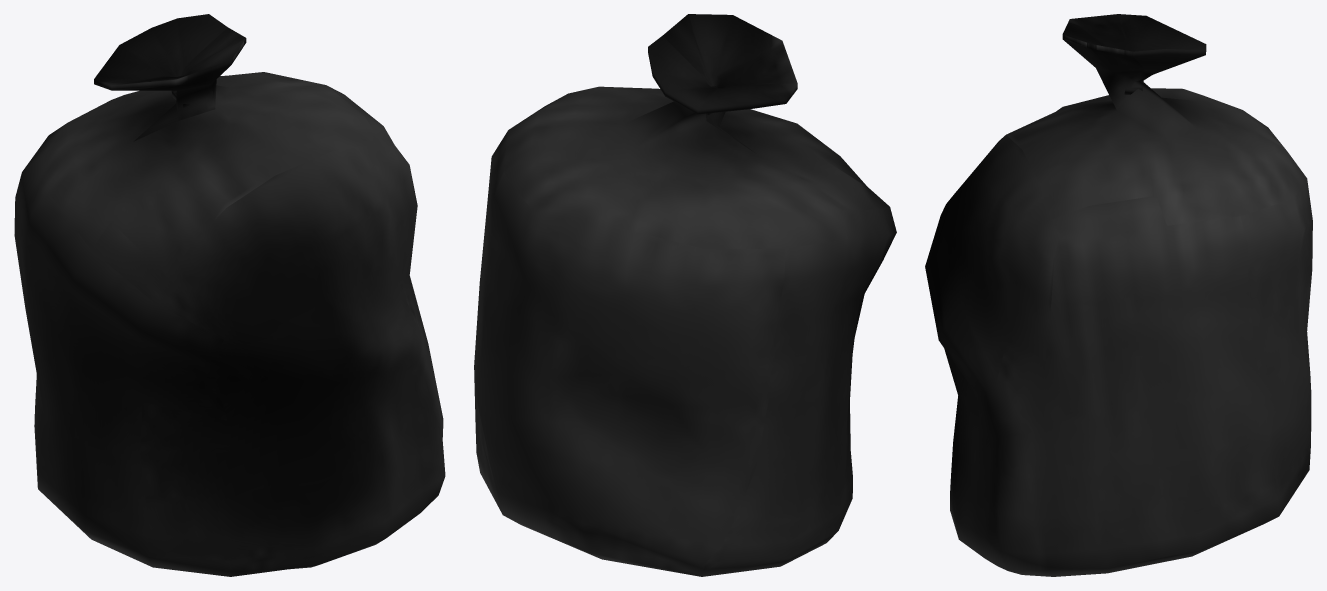
The model's file is Garbage_Bag_02.fbx.
The picture shows the model from 3 angles, left to right: view 1: azimuth 30°, elevation 25°; view 2: azimuth 150°, elevation 25°; view 3: azimuth 270°, elevation 25°; orthographic projection. The views are drawn at different scales.
Visible parts, largest first — view 1: Bag_03_low; view 2: Bag_03_low; view 3: Bag_03_low.
Boxes of the visible parts, x1=… form: Bag_03_low: x1=14, y1=14, x2=445, y2=576; Bag_03_low: x1=474, y1=14, x2=896, y2=576; Bag_03_low: x1=925, y1=14, x2=1312, y2=576.
Size of the model in its own units: 46.99 by 61.08 by 45.09.
1 material, 1 textured.
